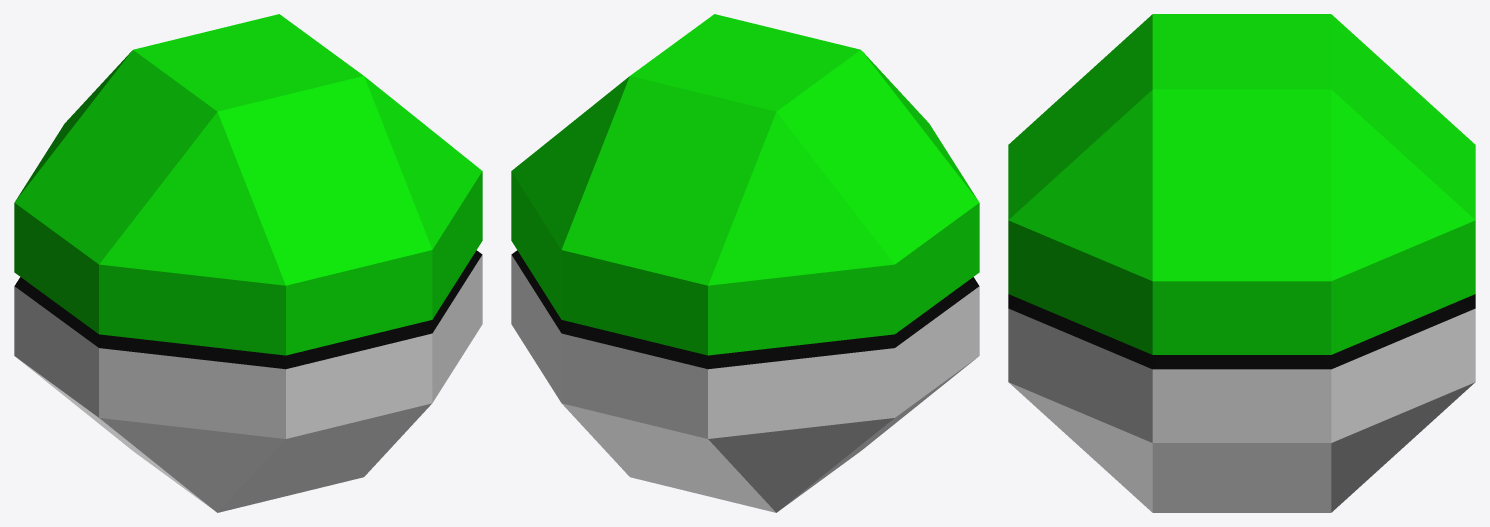
File: TheGreenOne.fbx
3 views of the same model, side by side, from view 1: azimuth 30°, elevation 25°; view 2: azimuth 150°, elevation 25°; view 3: azimuth 270°, elevation 25° (orthographic). The views are drawn at different scales.
Visible parts, largest first — view 1: Cube.004; view 2: Cube.004; view 3: Cube.004.
Boxes of the visible parts, box(x1,y1,x2,y2) form: Cube.004: box(14, 14, 482, 512); Cube.004: box(511, 14, 979, 512); Cube.004: box(1008, 14, 1475, 512).
Bounding box in the file's own units: 200 × 200 × 200.
